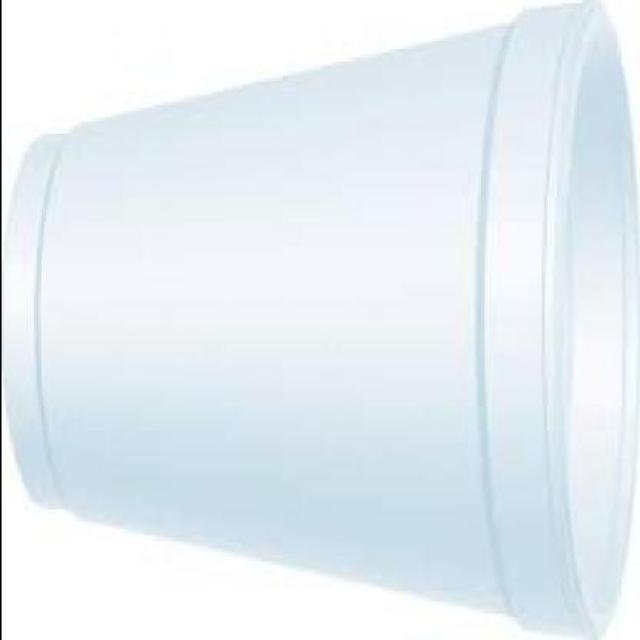PAPER: (1, 9, 638, 638)
